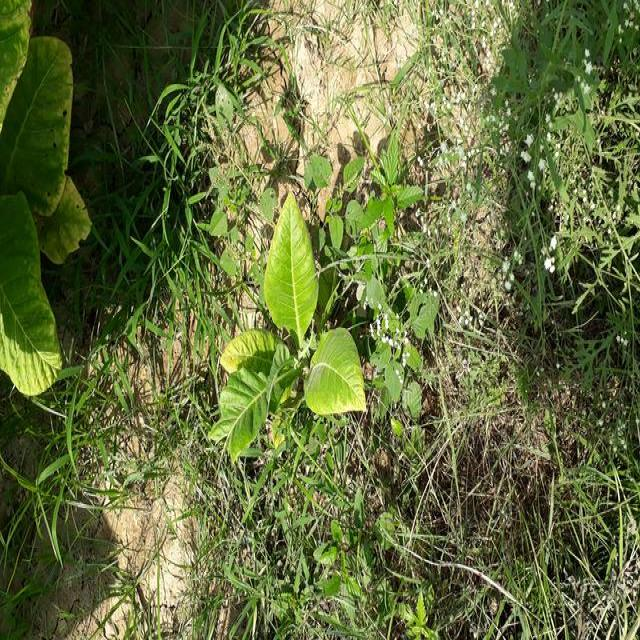crop: (212, 192, 366, 456), (0, 0, 82, 413)
